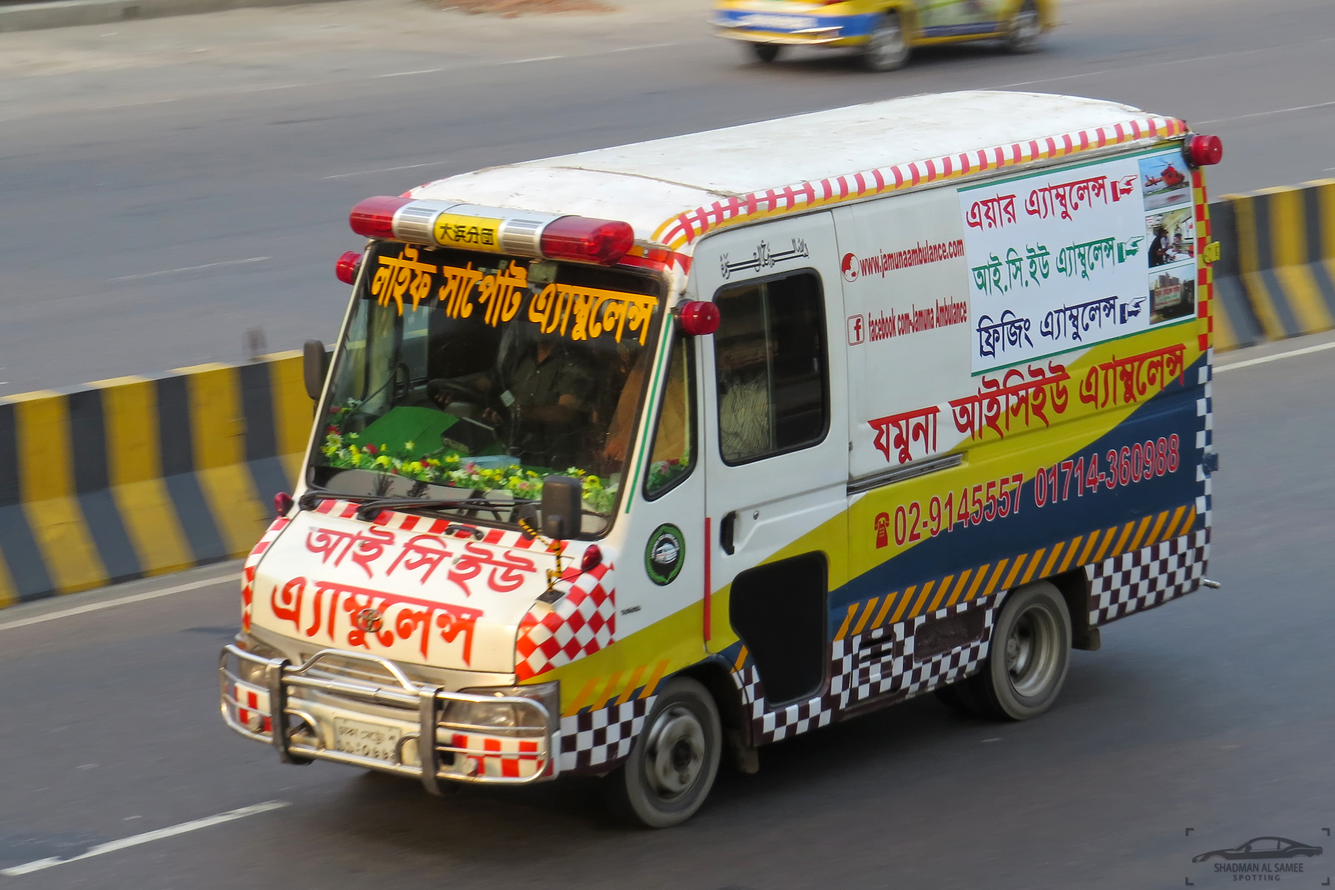Ambulance: (195, 79, 1215, 825)
